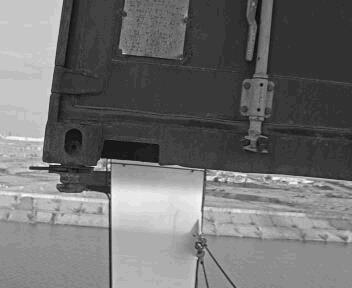twist_lock_1: (41, 163, 99, 202)
